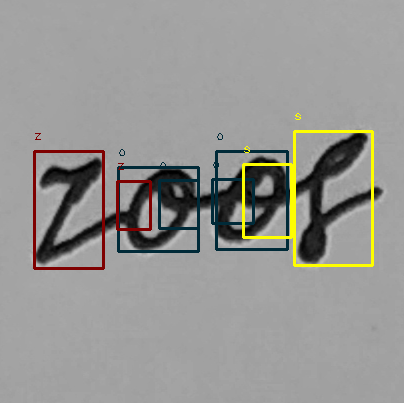o: (119, 162, 204, 258), (211, 153, 290, 248)
s: (291, 128, 385, 265)
z: (29, 154, 108, 268)
